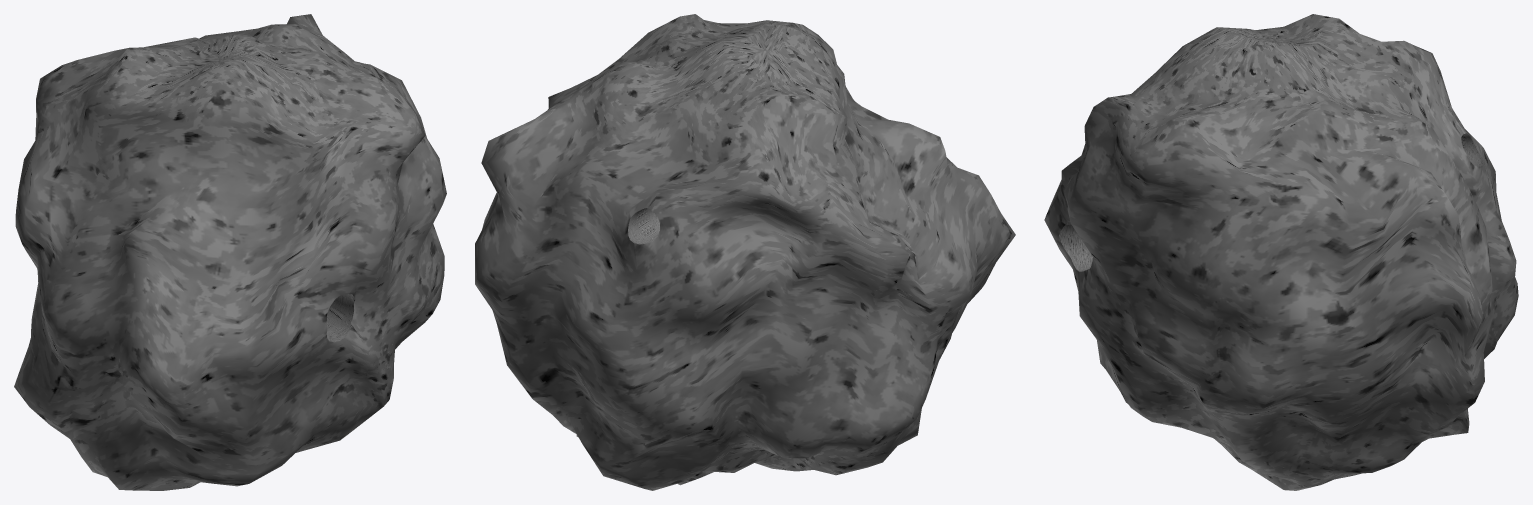
File: AsteroidTunnel.fbx
3 views of the same model, side by side, from view 1: azimuth 30°, elevation 25°; view 2: azimuth 150°, elevation 25°; view 3: azimuth 270°, elevation 25° (orthographic).
Parts seen in each view (by area): view 1: GeoSphere01; view 2: GeoSphere01; view 3: GeoSphere01.
Part boxes in pixels (x1=…): GeoSphere01: x1=14, y1=14, x2=446, y2=490; GeoSphere01: x1=475, y1=14, x2=1015, y2=490; GeoSphere01: x1=1044, y1=14, x2=1518, y2=490.
Size of the model in its own units: 147 by 148 by 149.
2 materials, 2 textured.
